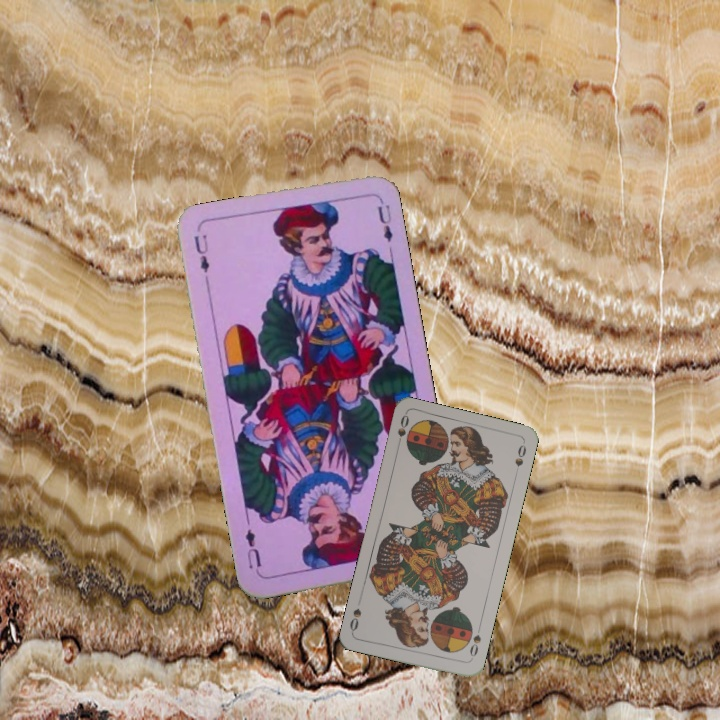EU: (189, 230, 212, 288)
SO: (393, 411, 412, 451), (466, 623, 484, 663)
